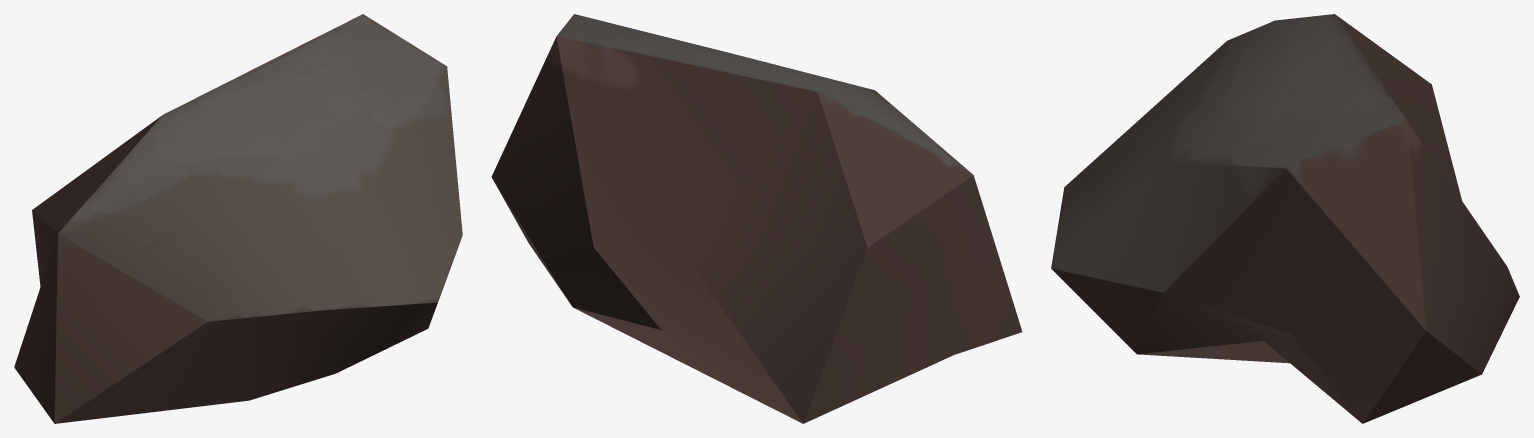
Rendered from Ferro.fbx.
3 renders of one model, left to right at view 1: azimuth 30°, elevation 25°; view 2: azimuth 150°, elevation 25°; view 3: azimuth 270°, elevation 25°, orthographic. The views are drawn at different scales.
Visible parts, largest first — view 1: Minerio_Ferro; view 2: Minerio_Ferro; view 3: Minerio_Ferro.
Part boxes in pixels (<box>): Minerio_Ferro: <box>14,14,462,423</box>; Minerio_Ferro: <box>491,14,1022,423</box>; Minerio_Ferro: <box>1051,14,1519,423</box>.
Bounding box in the file's own units: 239 × 151 × 184.
